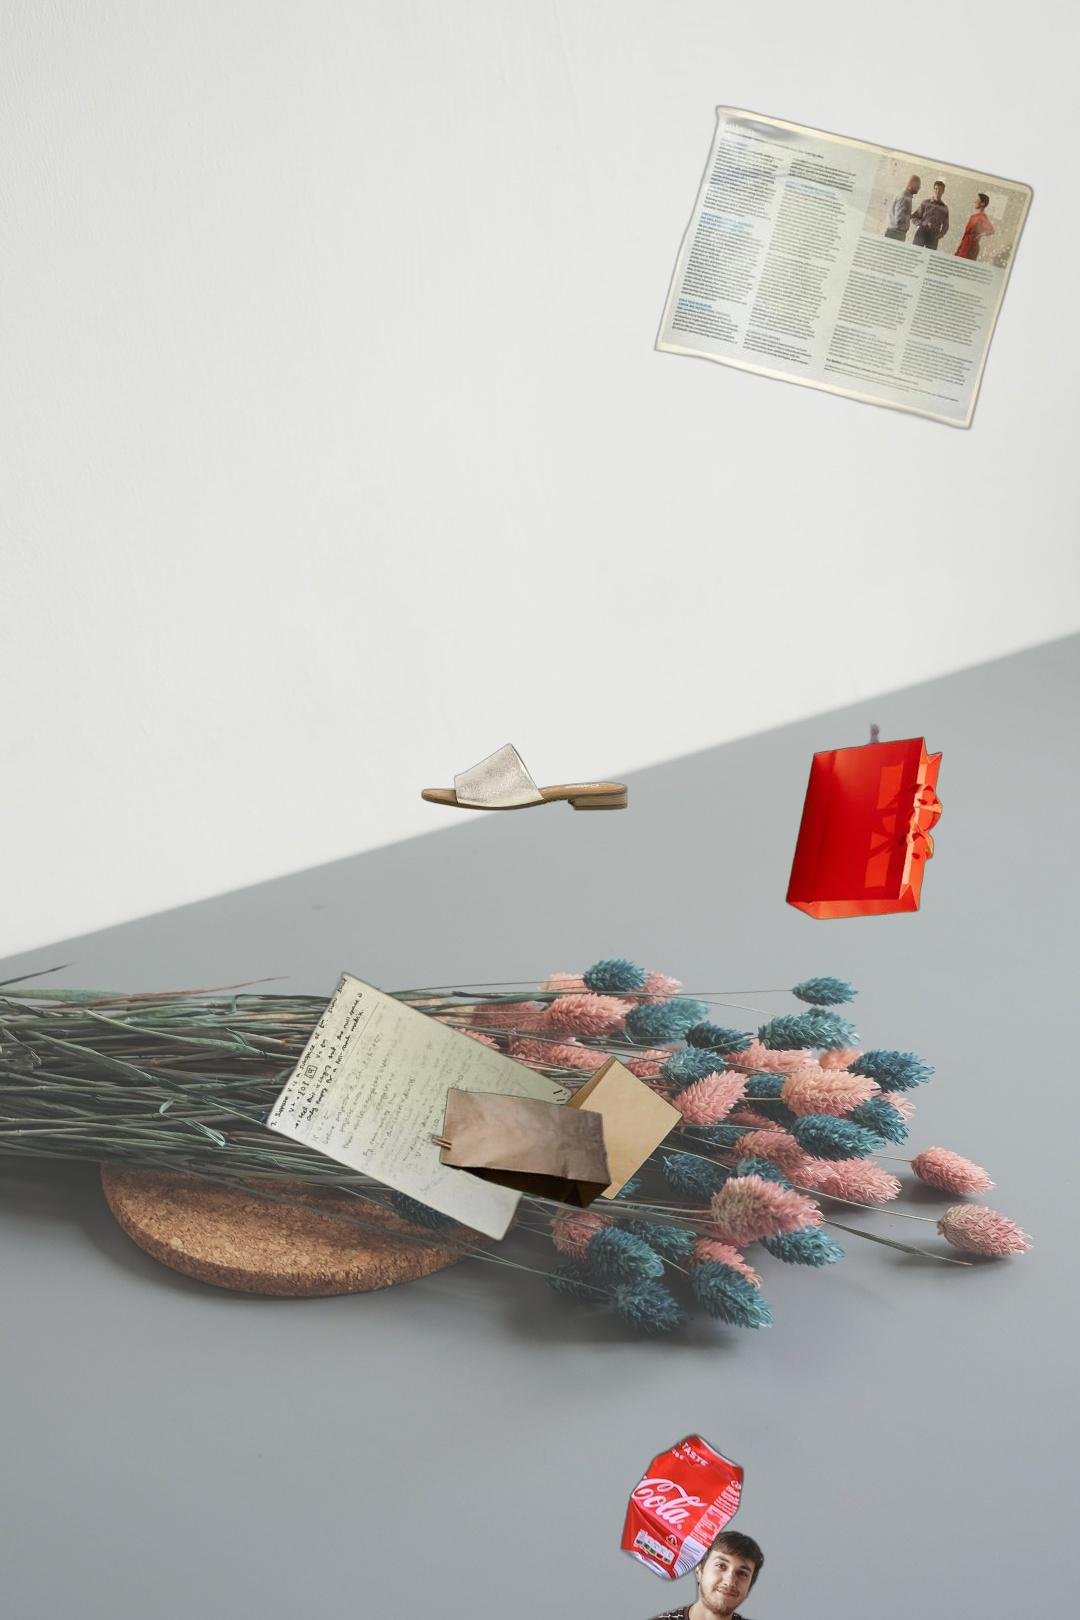metal-cans: (617, 1430, 749, 1587)
paper: (651, 102, 1038, 433), (259, 969, 579, 1248)
paper-bag: (425, 1055, 683, 1211), (783, 715, 944, 923)
shoes: (418, 741, 630, 812)
trashbox-cardboard: (562, 1527, 1005, 1620)
